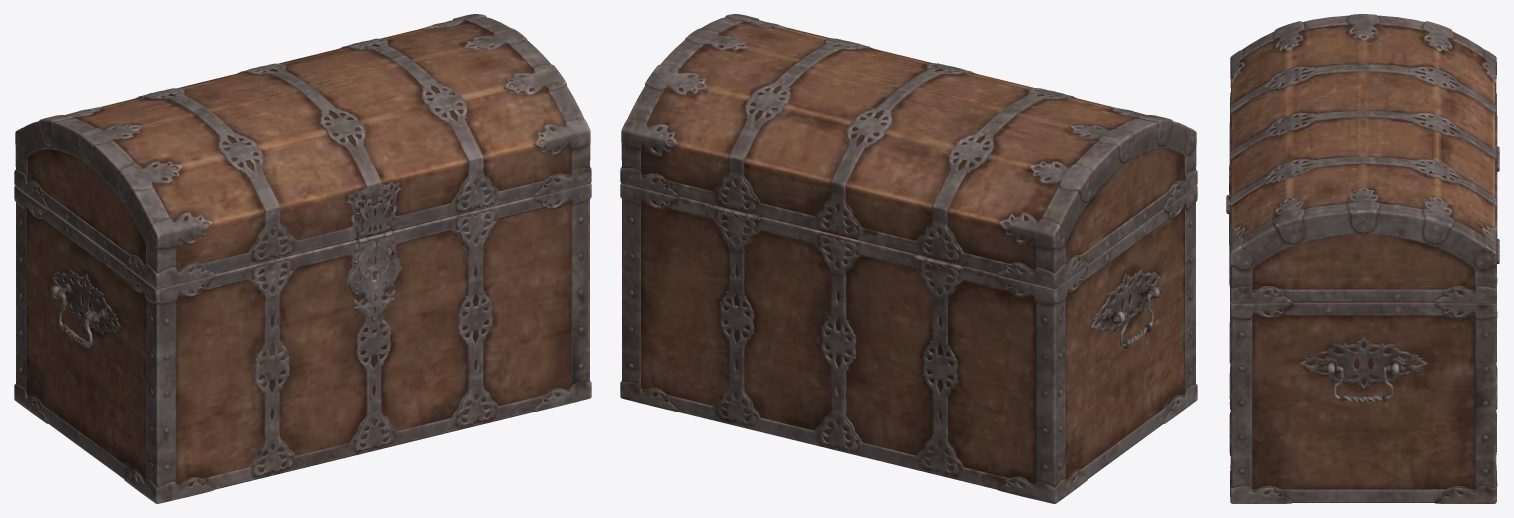
File: treasure_chest.glb
The picture shows the model from 3 angles, left to right: view 1: azimuth 30°, elevation 25°; view 2: azimuth 150°, elevation 25°; view 3: azimuth 270°, elevation 25°; orthographic projection. The views are drawn at different scales.
Visible parts, largest first — view 1: treasure_chest_bottom, treasure_chest_lid, treasure_chest_lock, treasure_chest_handle_left; view 2: treasure_chest_bottom, treasure_chest_lid; view 3: treasure_chest_lid, treasure_chest_bottom, treasure_chest_handle_right.
Part boxes in pixels (left/top/right/bottom): treasure_chest_bottom: left=14, top=183, right=591, bottom=503; treasure_chest_lid: left=14, top=14, right=591, bottom=288; treasure_chest_lock: left=349, top=233, right=399, bottom=322; treasure_chest_handle_left: left=50, top=285, right=100, bottom=348; treasure_chest_bottom: left=620, top=183, right=1197, bottom=503; treasure_chest_lid: left=620, top=14, right=1197, bottom=288; treasure_chest_lid: left=1226, top=14, right=1499, bottom=303; treasure_chest_bottom: left=1229, top=152, right=1499, bottom=503; treasure_chest_handle_right: left=1320, top=365, right=1406, bottom=402.
Size of the model in its own units: 0.959 by 0.619 by 0.5229.
Materials: 1 (1 with a texture image).
